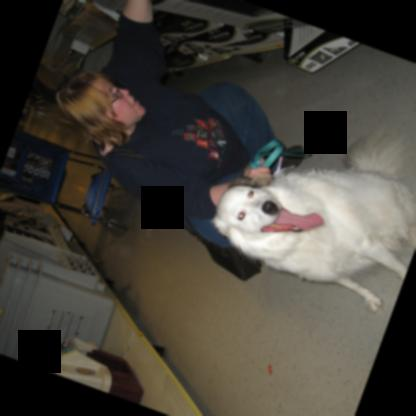handbag: (188, 227, 260, 280), (249, 139, 311, 168)
